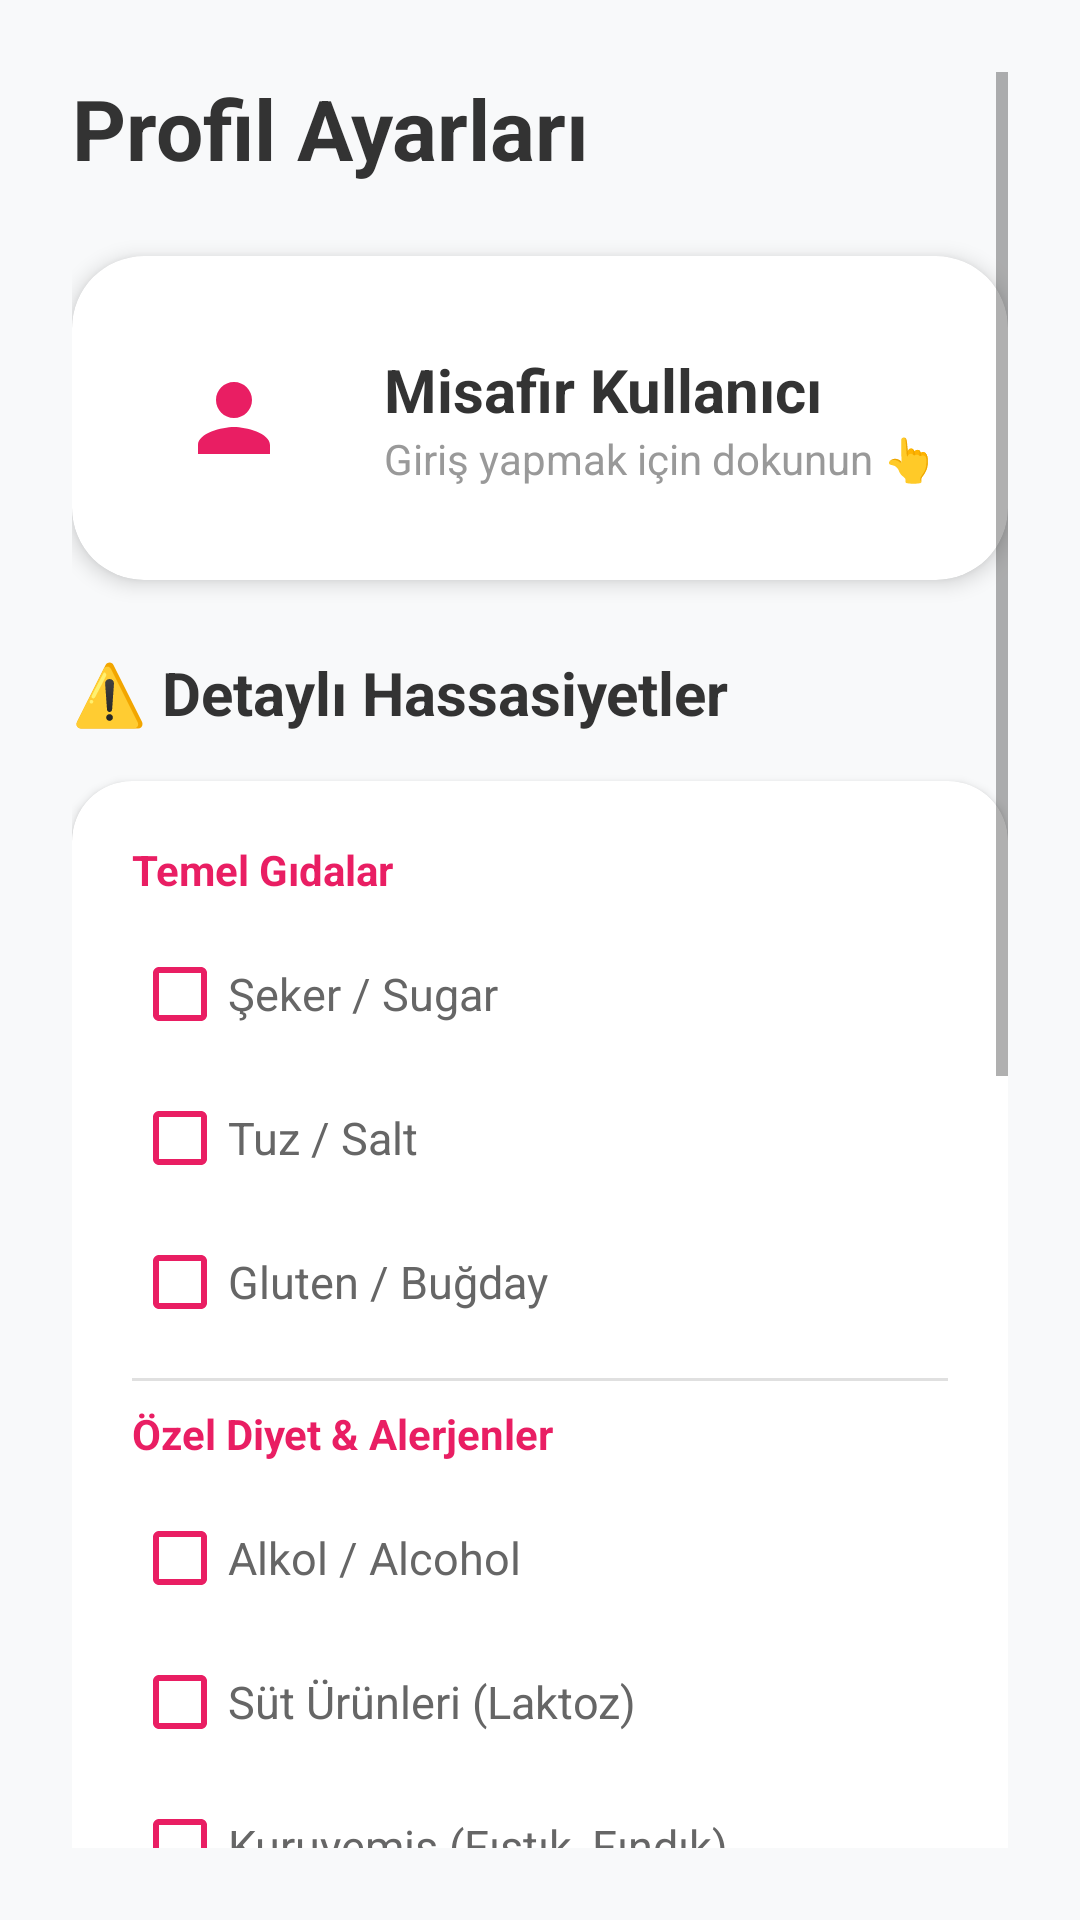

Icons on this 1080 × 1920 Android screen, each with the point to tap as (x,y):
profile: (234,418)
